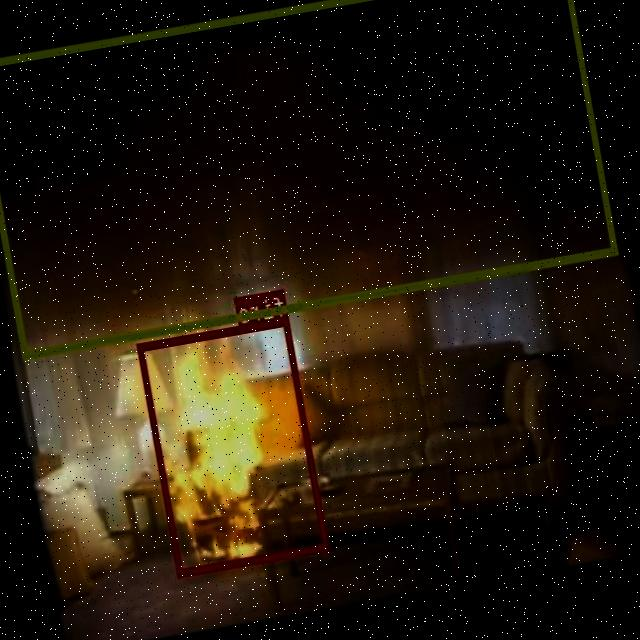fire: (138, 315, 330, 576)
smoke: (0, 0, 619, 358)
